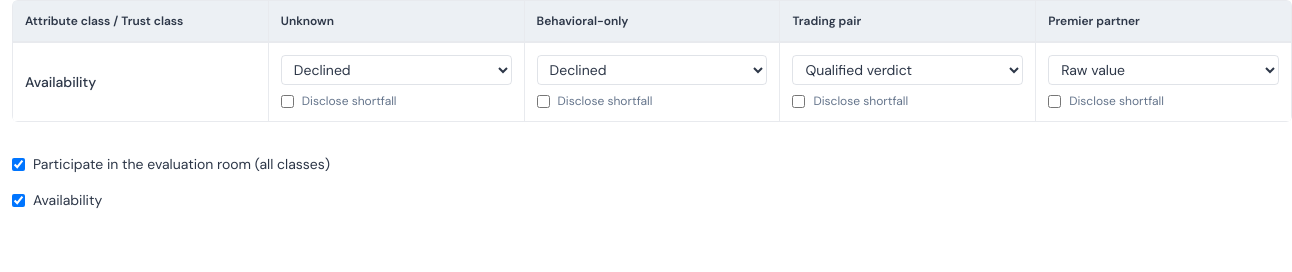
Test case: DisclosurePolicyClient › Item 12: shows an alert and keeps the prior cell when the matrix PUT fetch itself throws
This screenshot has width=1292, height=272.
Select "Raw value" in the dropdown named "availability disclosure for trading_pair" at (908, 70), box [792,55,1023,85]
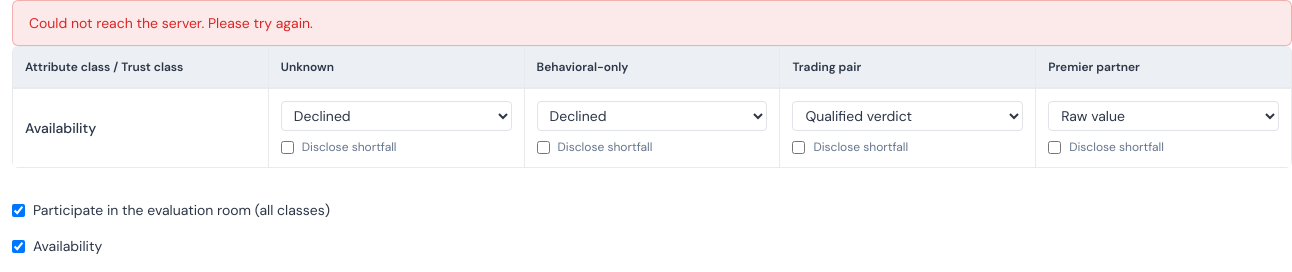
Expected: the message "Could not reach the server. Please try again." is shown, [12,0,1291,46]
